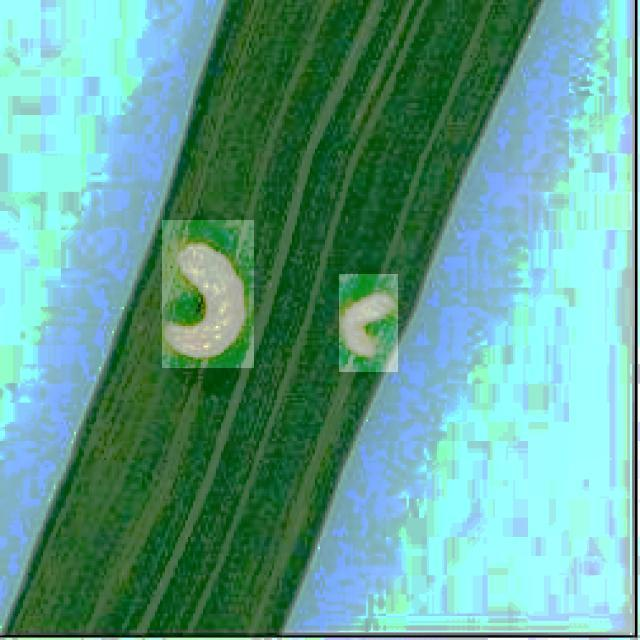whorl-maggot: (162, 220, 254, 368), (339, 274, 398, 372)
